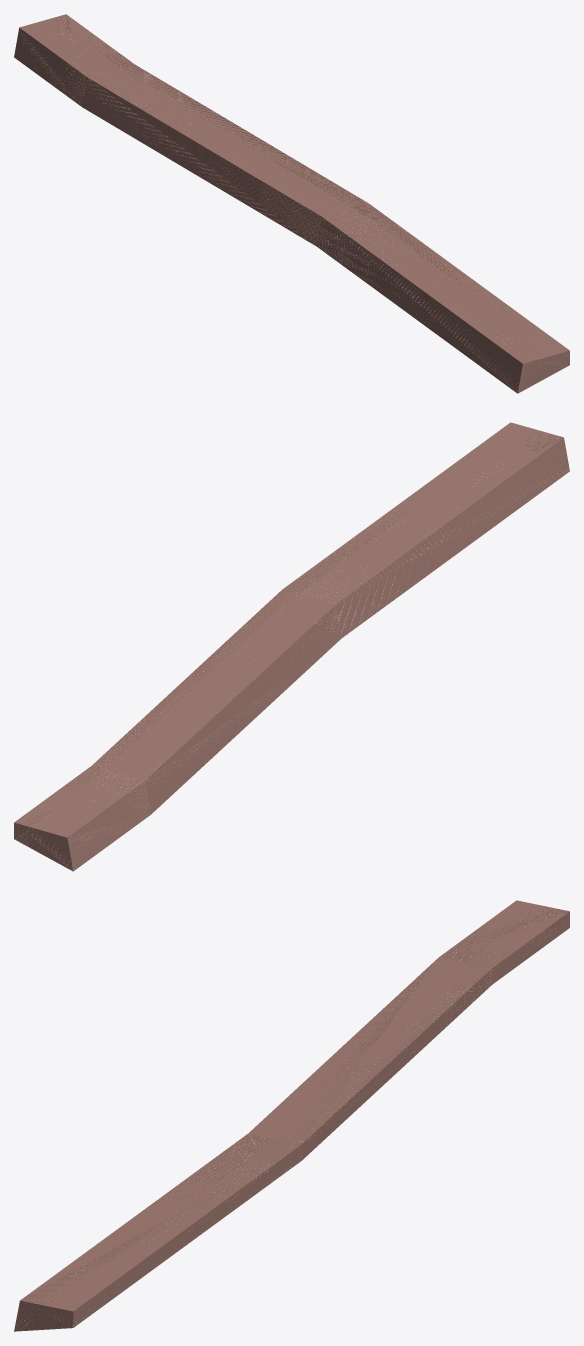
The model's file is SW_ENV_EL_TrackBase_Walkway_Side_Crooked_Collision.fbx.
3 renders of one model, top to bottom at view 1: azimuth 30°, elevation 25°; view 2: azimuth 150°, elevation 25°; view 3: azimuth 330°, elevation 25°, orthographic. The views are drawn at different scales.
Parts seen in each view (by area): view 1: SW_ENV_EL_TrackBase_Walkway_Side_Crooked_Collision; view 2: SW_ENV_EL_TrackBase_Walkway_Side_Crooked_Collision; view 3: SW_ENV_EL_TrackBase_Walkway_Side_Crooked_Collision.
Part boxes in pixels (x1,y1,x2,y2): SW_ENV_EL_TrackBase_Walkway_Side_Crooked_Collision: [14, 14, 569, 393]; SW_ENV_EL_TrackBase_Walkway_Side_Crooked_Collision: [14, 422, 569, 871]; SW_ENV_EL_TrackBase_Walkway_Side_Crooked_Collision: [14, 900, 569, 1331].
Size of the model in its own units: 245 by 83.5 by 2340.
